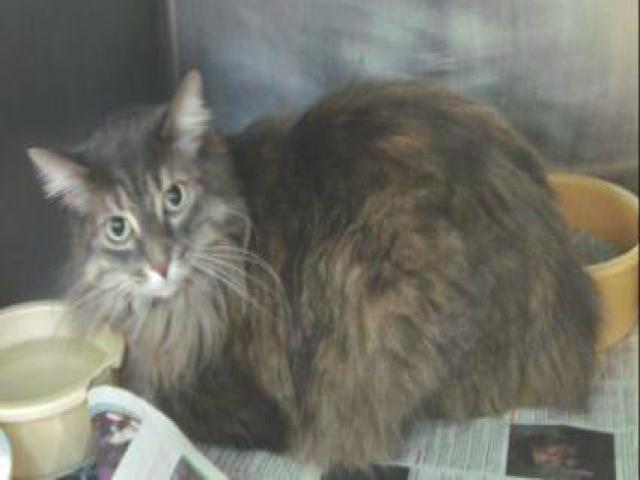cat: (30, 62, 573, 446)
